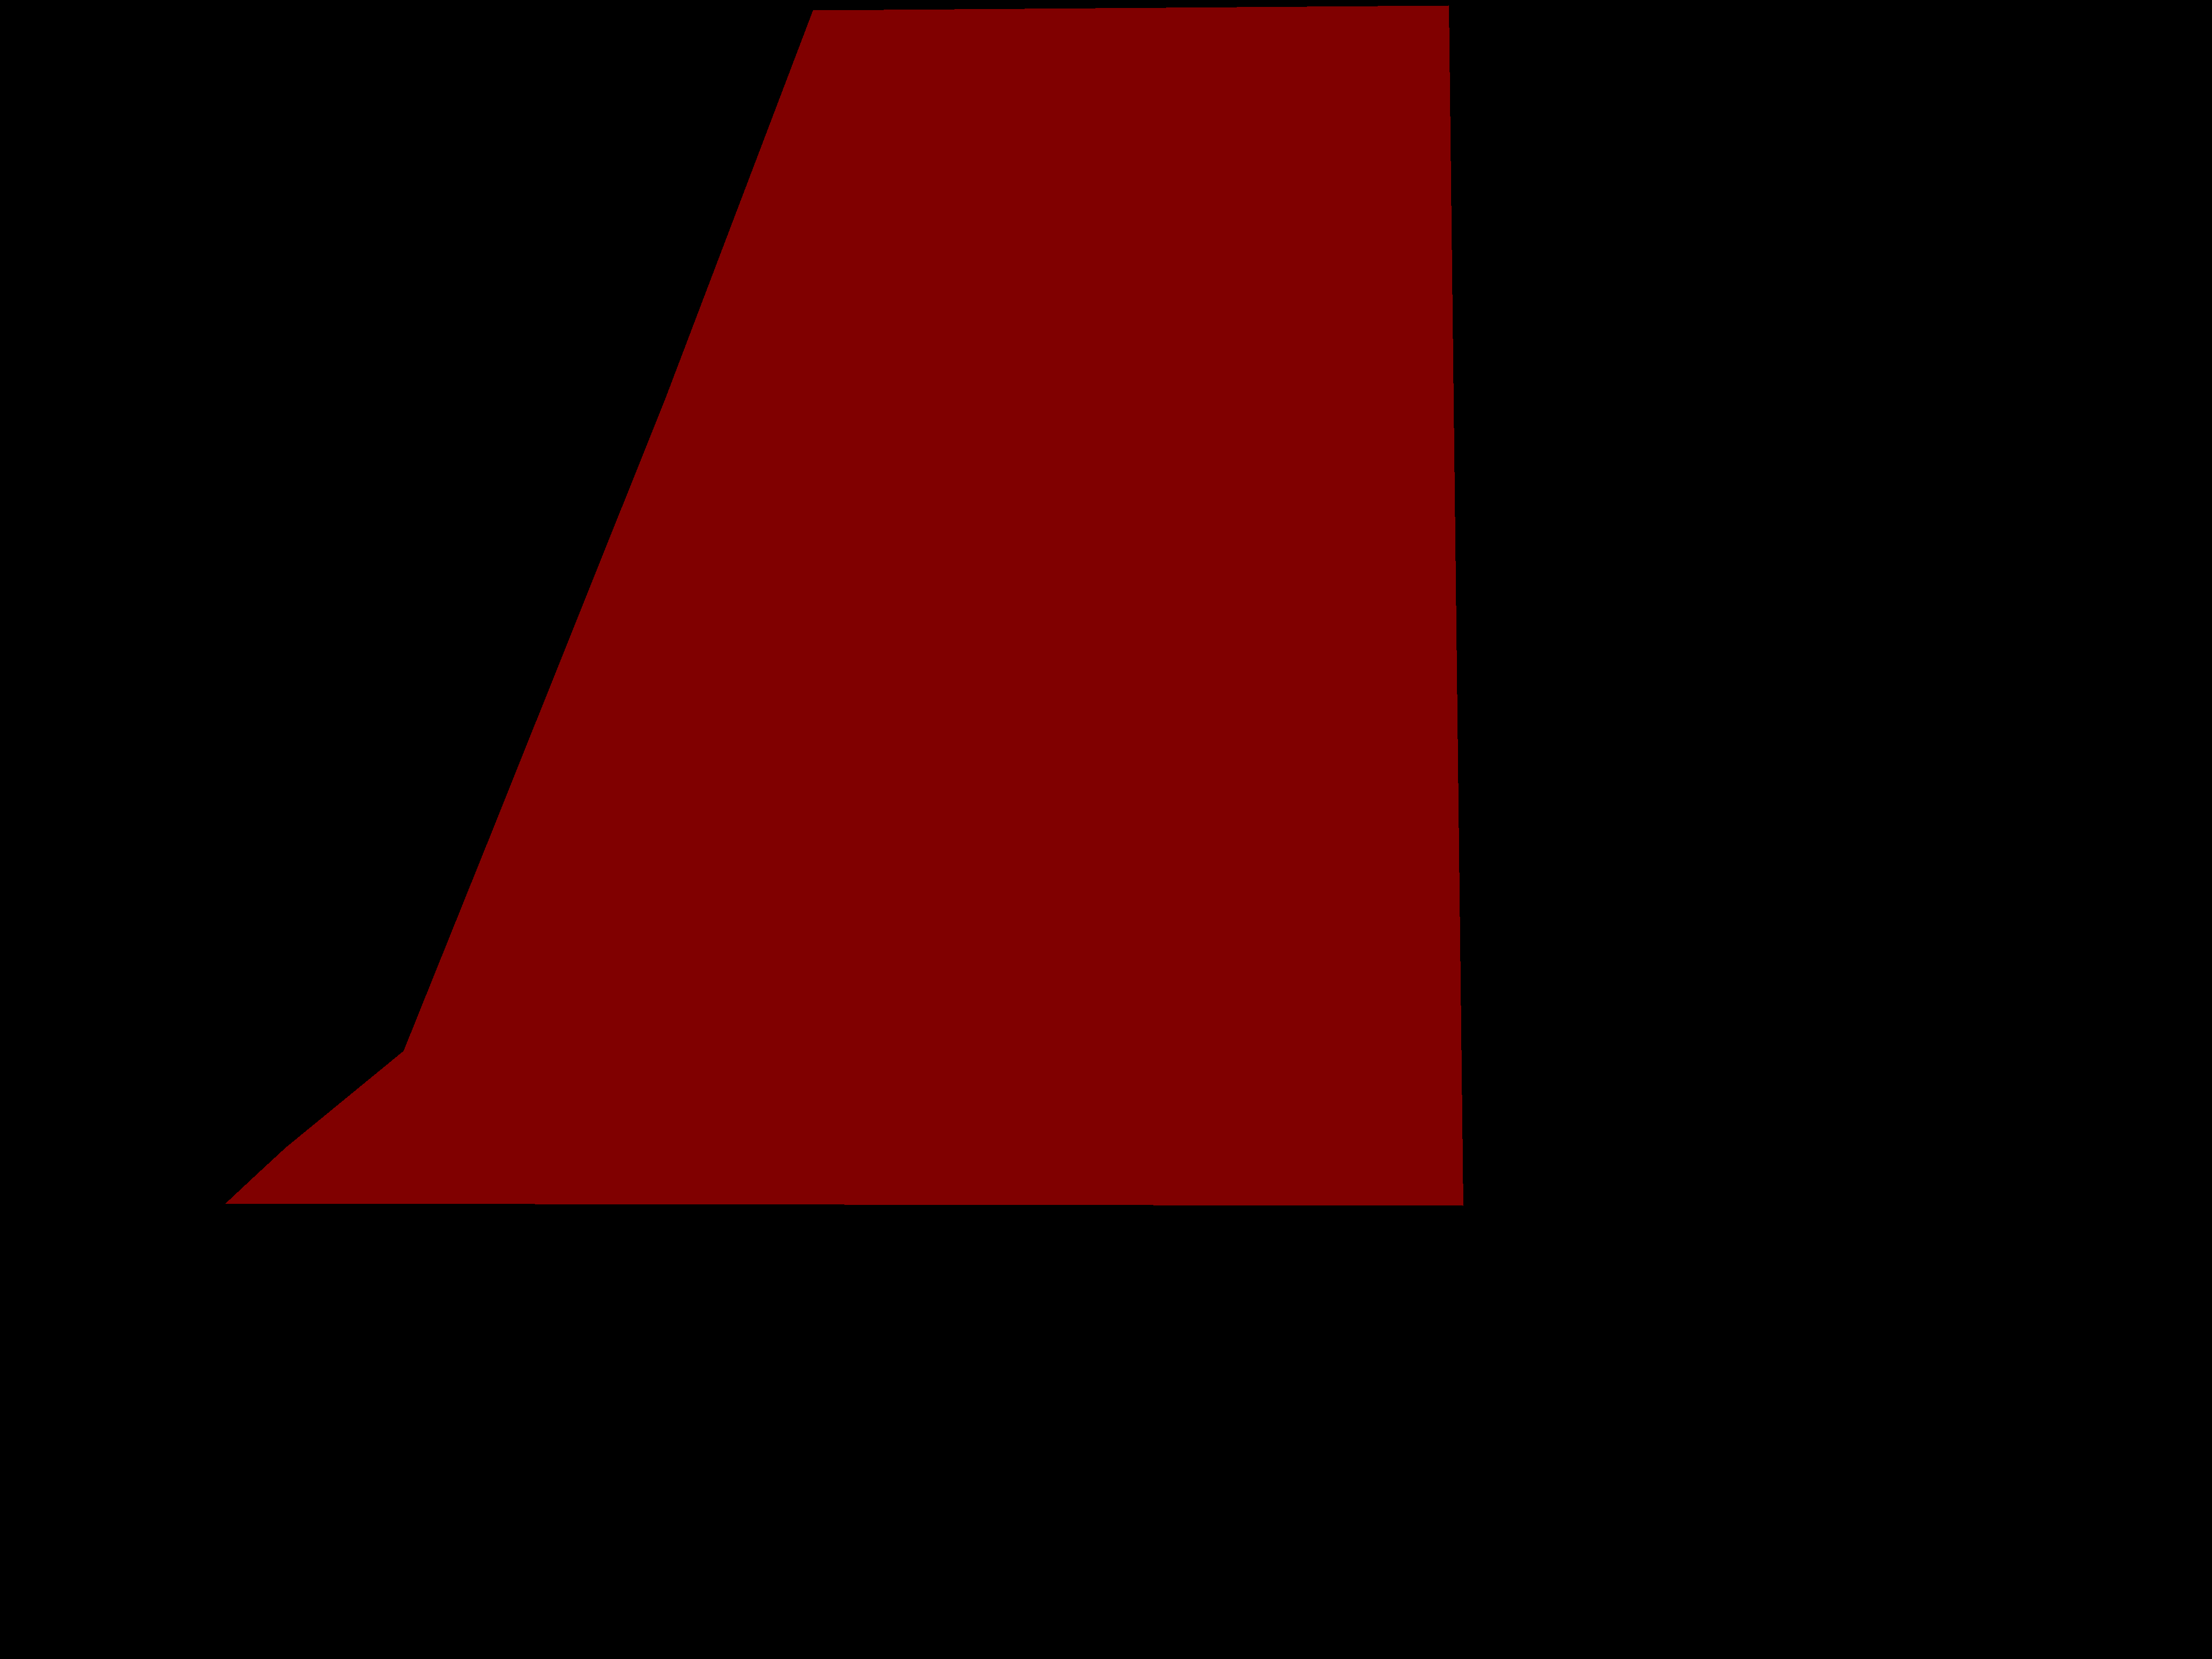stair: (225, 5, 1463, 1206)
